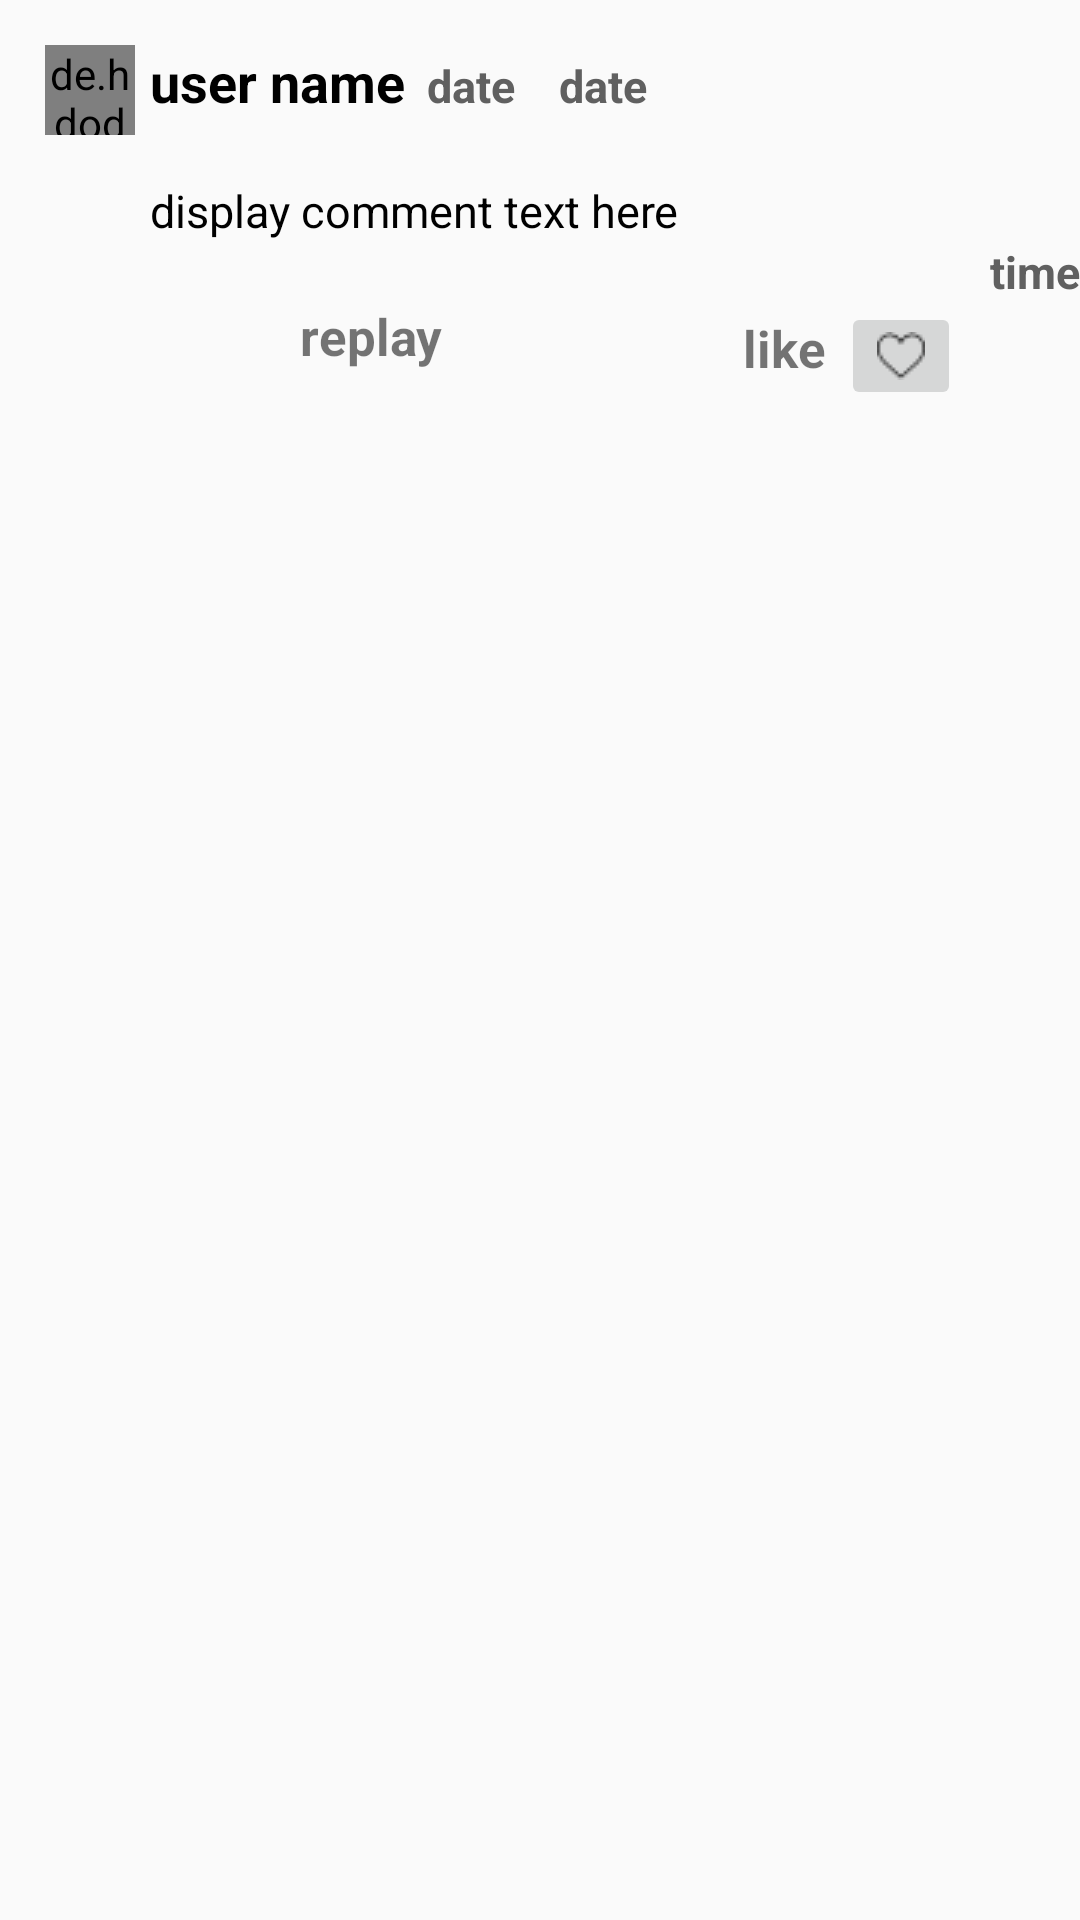

Icon click points for this 1080*1920 phone screenshot, format [x,y]:
smallheart: [901,356]
